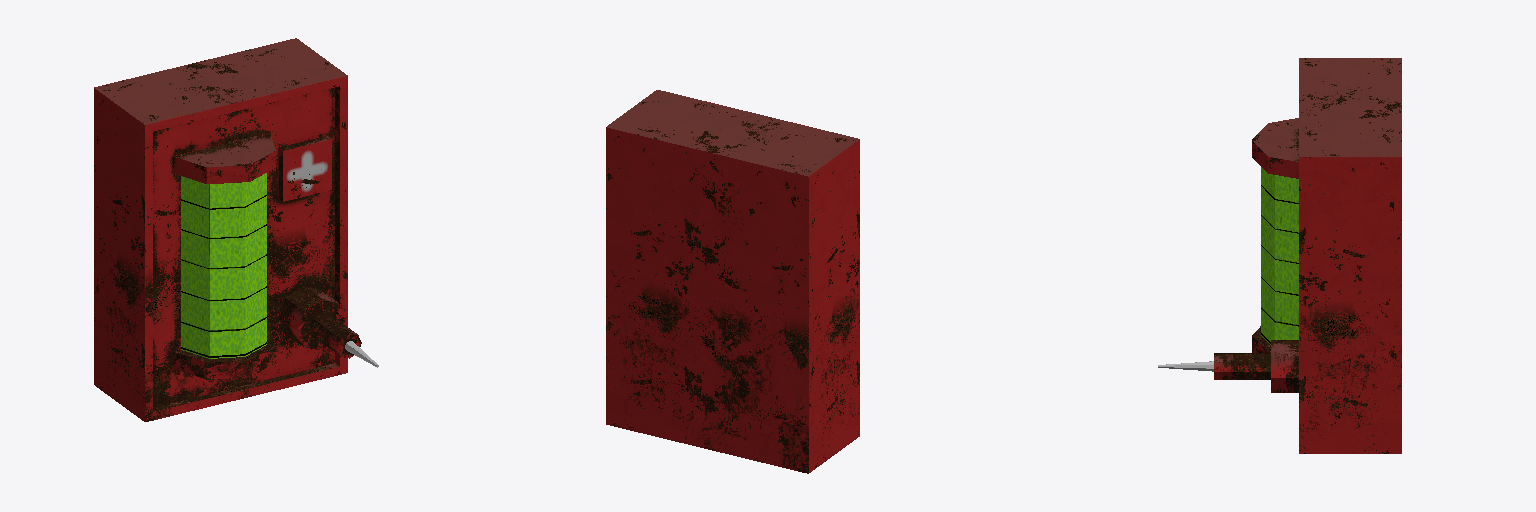
3 views of the same model, side by side, from view 1: azimuth 30°, elevation 25°; view 2: azimuth 150°, elevation 25°; view 3: azimuth 270°, elevation 25° (orthographic).
Visible parts, largest first — view 1: Cube.001_Cube.011_Cube.001_Cube.011; view 2: Cube.001_Cube.011_Cube.001_Cube.011; view 3: Cube.001_Cube.011_Cube.001_Cube.011.
Boxes of the visible parts, <box> form: Cube.001_Cube.011_Cube.001_Cube.011: <box>94,38,378,421</box>; Cube.001_Cube.011_Cube.001_Cube.011: <box>606,90,859,473</box>; Cube.001_Cube.011_Cube.001_Cube.011: <box>1158,58,1401,453</box>.
Size of the model in its own units: 0.25 by 0.35 by 0.26.
Materials: 1 (1 with a texture image).